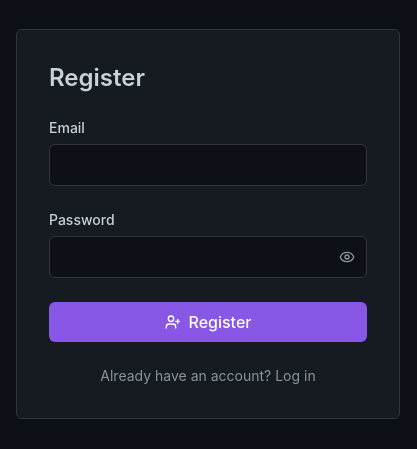
Test: RegisterView › maps 422 validation errors to field-level messages
Type "a@example.com" into the field with id "register-email" at {"x": 208, "y": 165}, box [49,144,367,186]
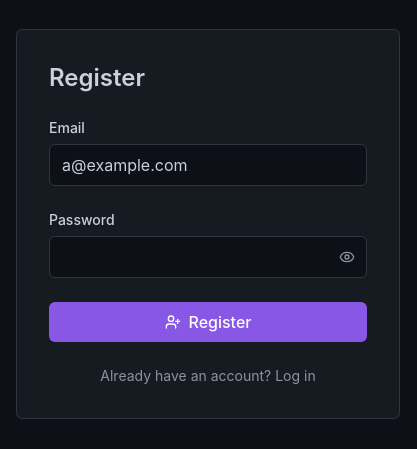
Type "password123" into the password field with id "register-password" at {"x": 208, "y": 257}, box [49,236,367,278]
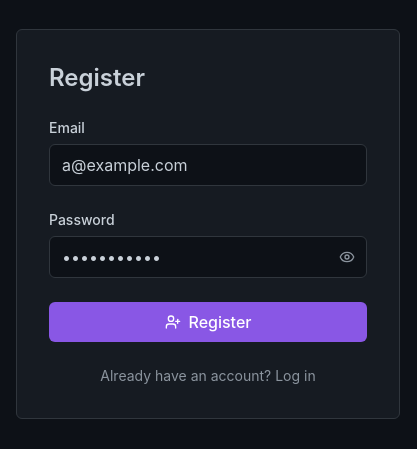
Submit the form
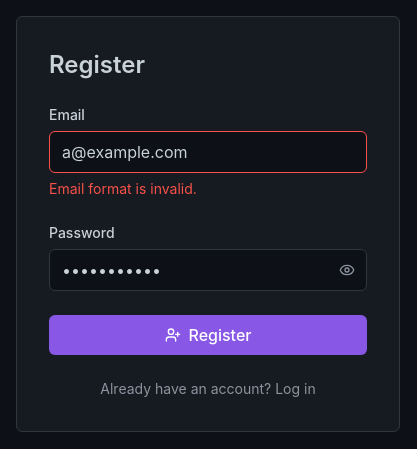
Result: the text "Email format is invalid." is shown at [49,180,197,197]
